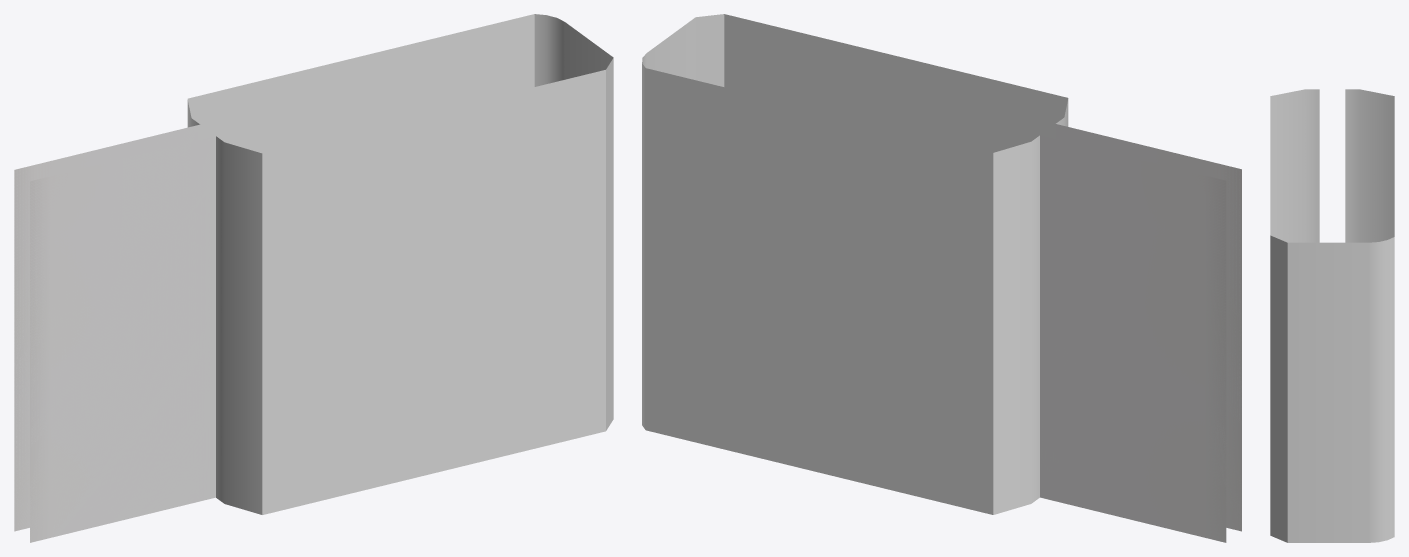
File: original-44.obj
3 views of the same model, side by side, from view 1: azimuth 30°, elevation 25°; view 2: azimuth 150°, elevation 25°; view 3: azimuth 270°, elevation 25° (orthographic). The views are drawn at different scales.
Parts seen in each view (by area): view 1: DF_11_CR1/DF_11_CR/mesh32/mesh32-geometry#mesh32-geometry; view 2: DF_11_CR1/DF_11_CR/mesh32/mesh32-geometry#mesh32-geometry; view 3: DF_11_CR1/DF_11_CR/mesh32/mesh32-geometry#mesh32-geometry.
Boxes of the visible parts, x1,y1,x2,y2 form: DF_11_CR1/DF_11_CR/mesh32/mesh32-geometry#mesh32-geometry: (14, 14, 613, 542); DF_11_CR1/DF_11_CR/mesh32/mesh32-geometry#mesh32-geometry: (642, 14, 1241, 542); DF_11_CR1/DF_11_CR/mesh32/mesh32-geometry#mesh32-geometry: (1270, 89, 1394, 542).
Size of the model in its own units: 0.1178 by 0.0721 by 0.0271.
